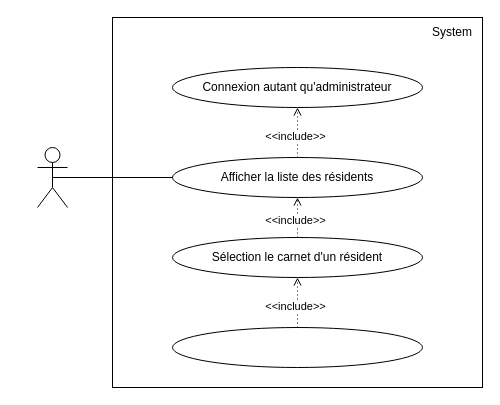
The diagram is 500 pixels wide and 405 high, and some of its shapes have lost their labels. Here are the shapes that lost their labels. From the top down, the centre of each, then its label:
point (52, 177): Responsable
point (297, 347): Cliquer sur "Supprimer le carnet"
